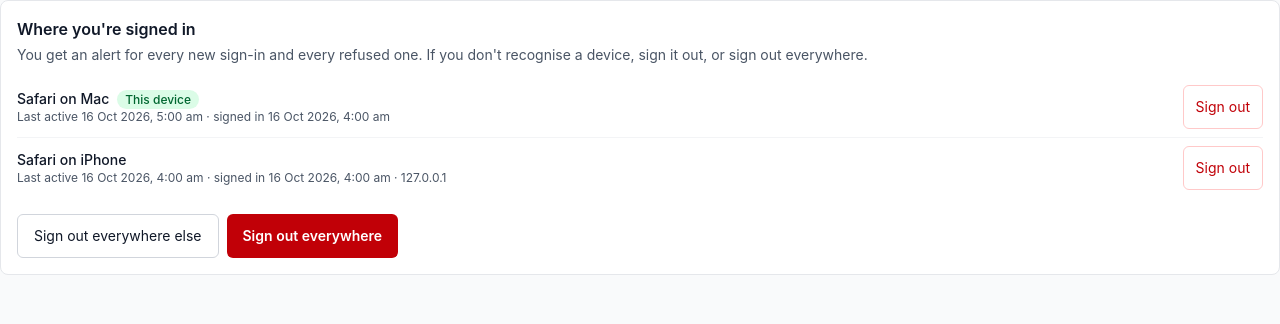
SecuritySessions › sign out everywhere else keeps this device, after a confirmation
Step 1. Click the button "Sign out everywhere else" → (118, 236), box top-left (17, 214), bottom-right (218, 258)
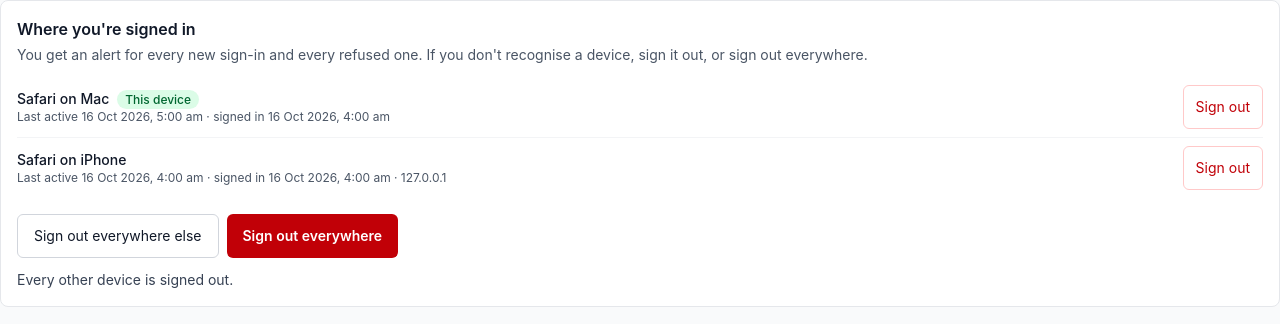
Expected: the message reads "Every other device is signed out.", top-left (17, 271), bottom-right (233, 288)
